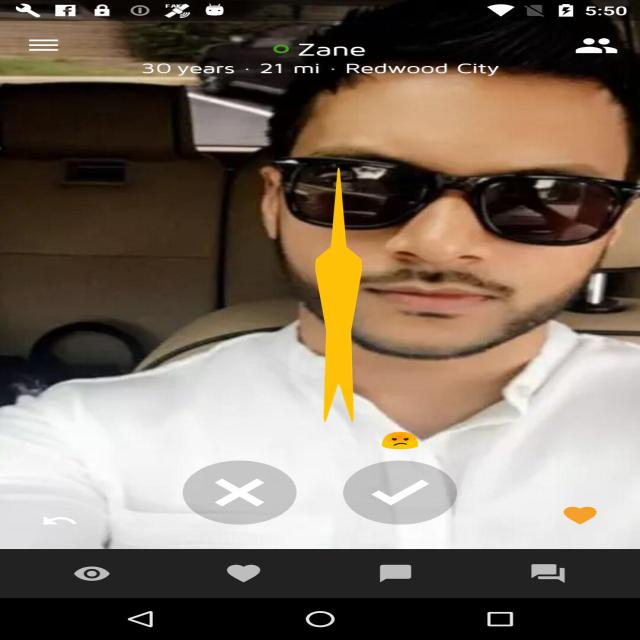forced continuity: (315, 167, 362, 423)
